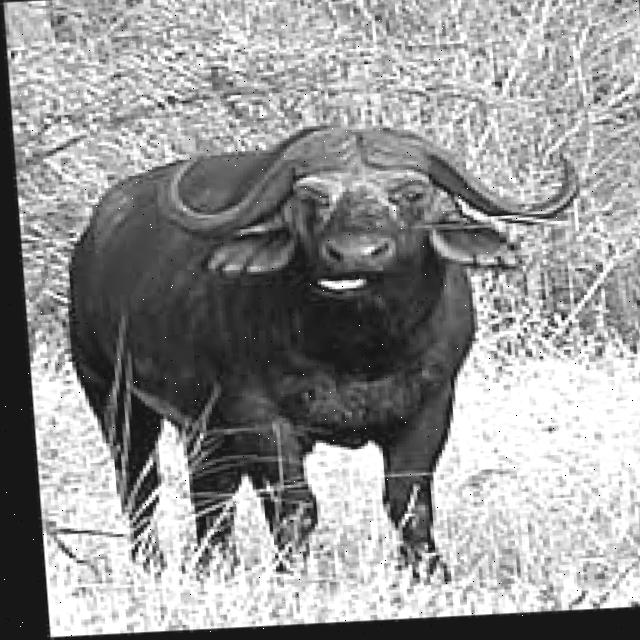Buffalo: (52, 113, 605, 600)
